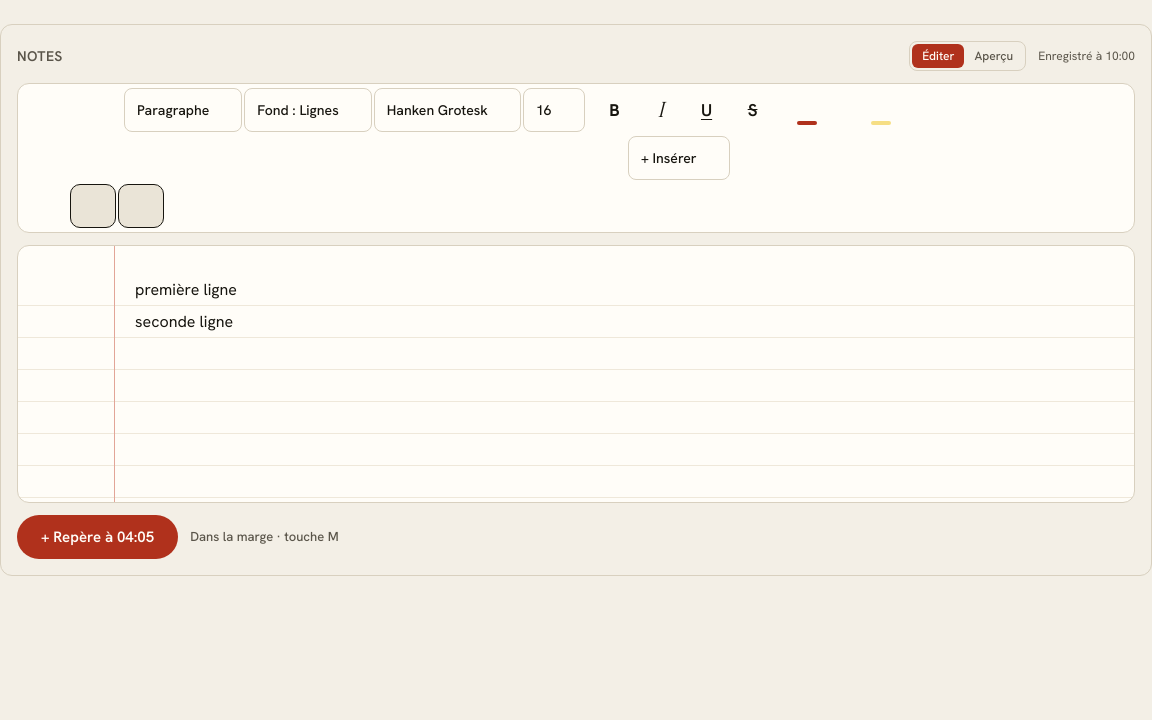
Scenario: timestamped markers (YC-56) › says « Dans la marge » only when the margin column is shown
The width and height of the screenshot is (1152, 720).
Expected: the field named "Note de la vidéo" shows "première", [135,279,237,332]
Expected: the text "Dans la marge · touche M" is shown, [190,528,339,546]
Click the button named "Colonne de marge" at (141, 206), box [118,184,164,228]
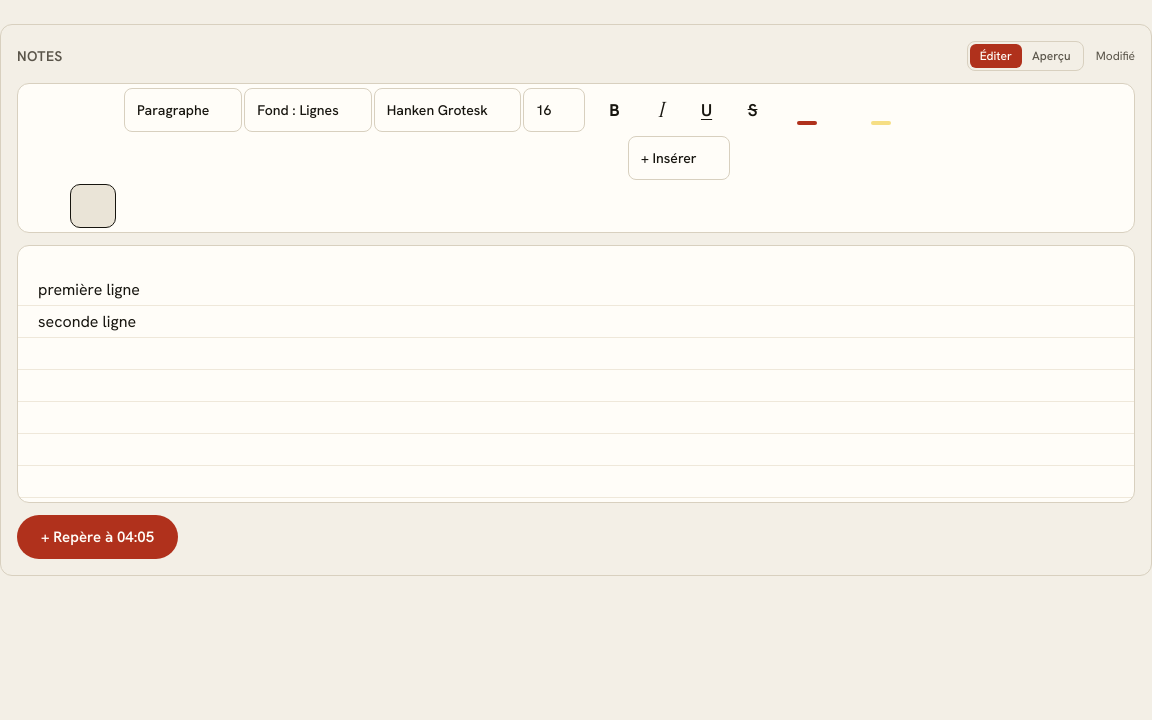
Result: the text "Dans la marge · touche M" is gone
